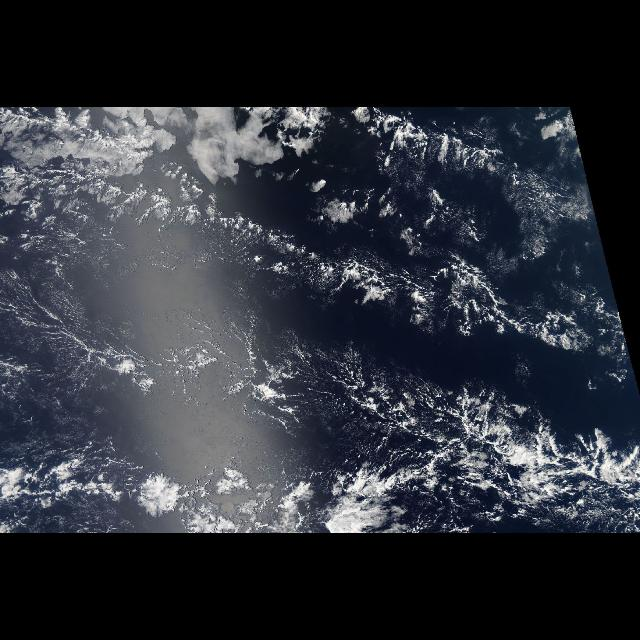Fish: (12, 284, 314, 424), (344, 111, 592, 217), (340, 262, 630, 351), (95, 178, 323, 272), (329, 361, 529, 451)
Flower: (1, 107, 318, 197), (133, 455, 260, 533)
Gravel: (249, 222, 606, 361), (322, 391, 640, 533)
Sugar: (2, 263, 228, 419)
